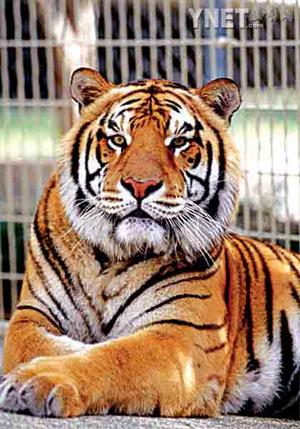Tigre: (20, 53, 292, 419)
